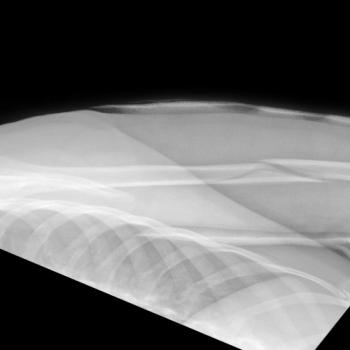Fracture: (249, 156, 324, 185)
